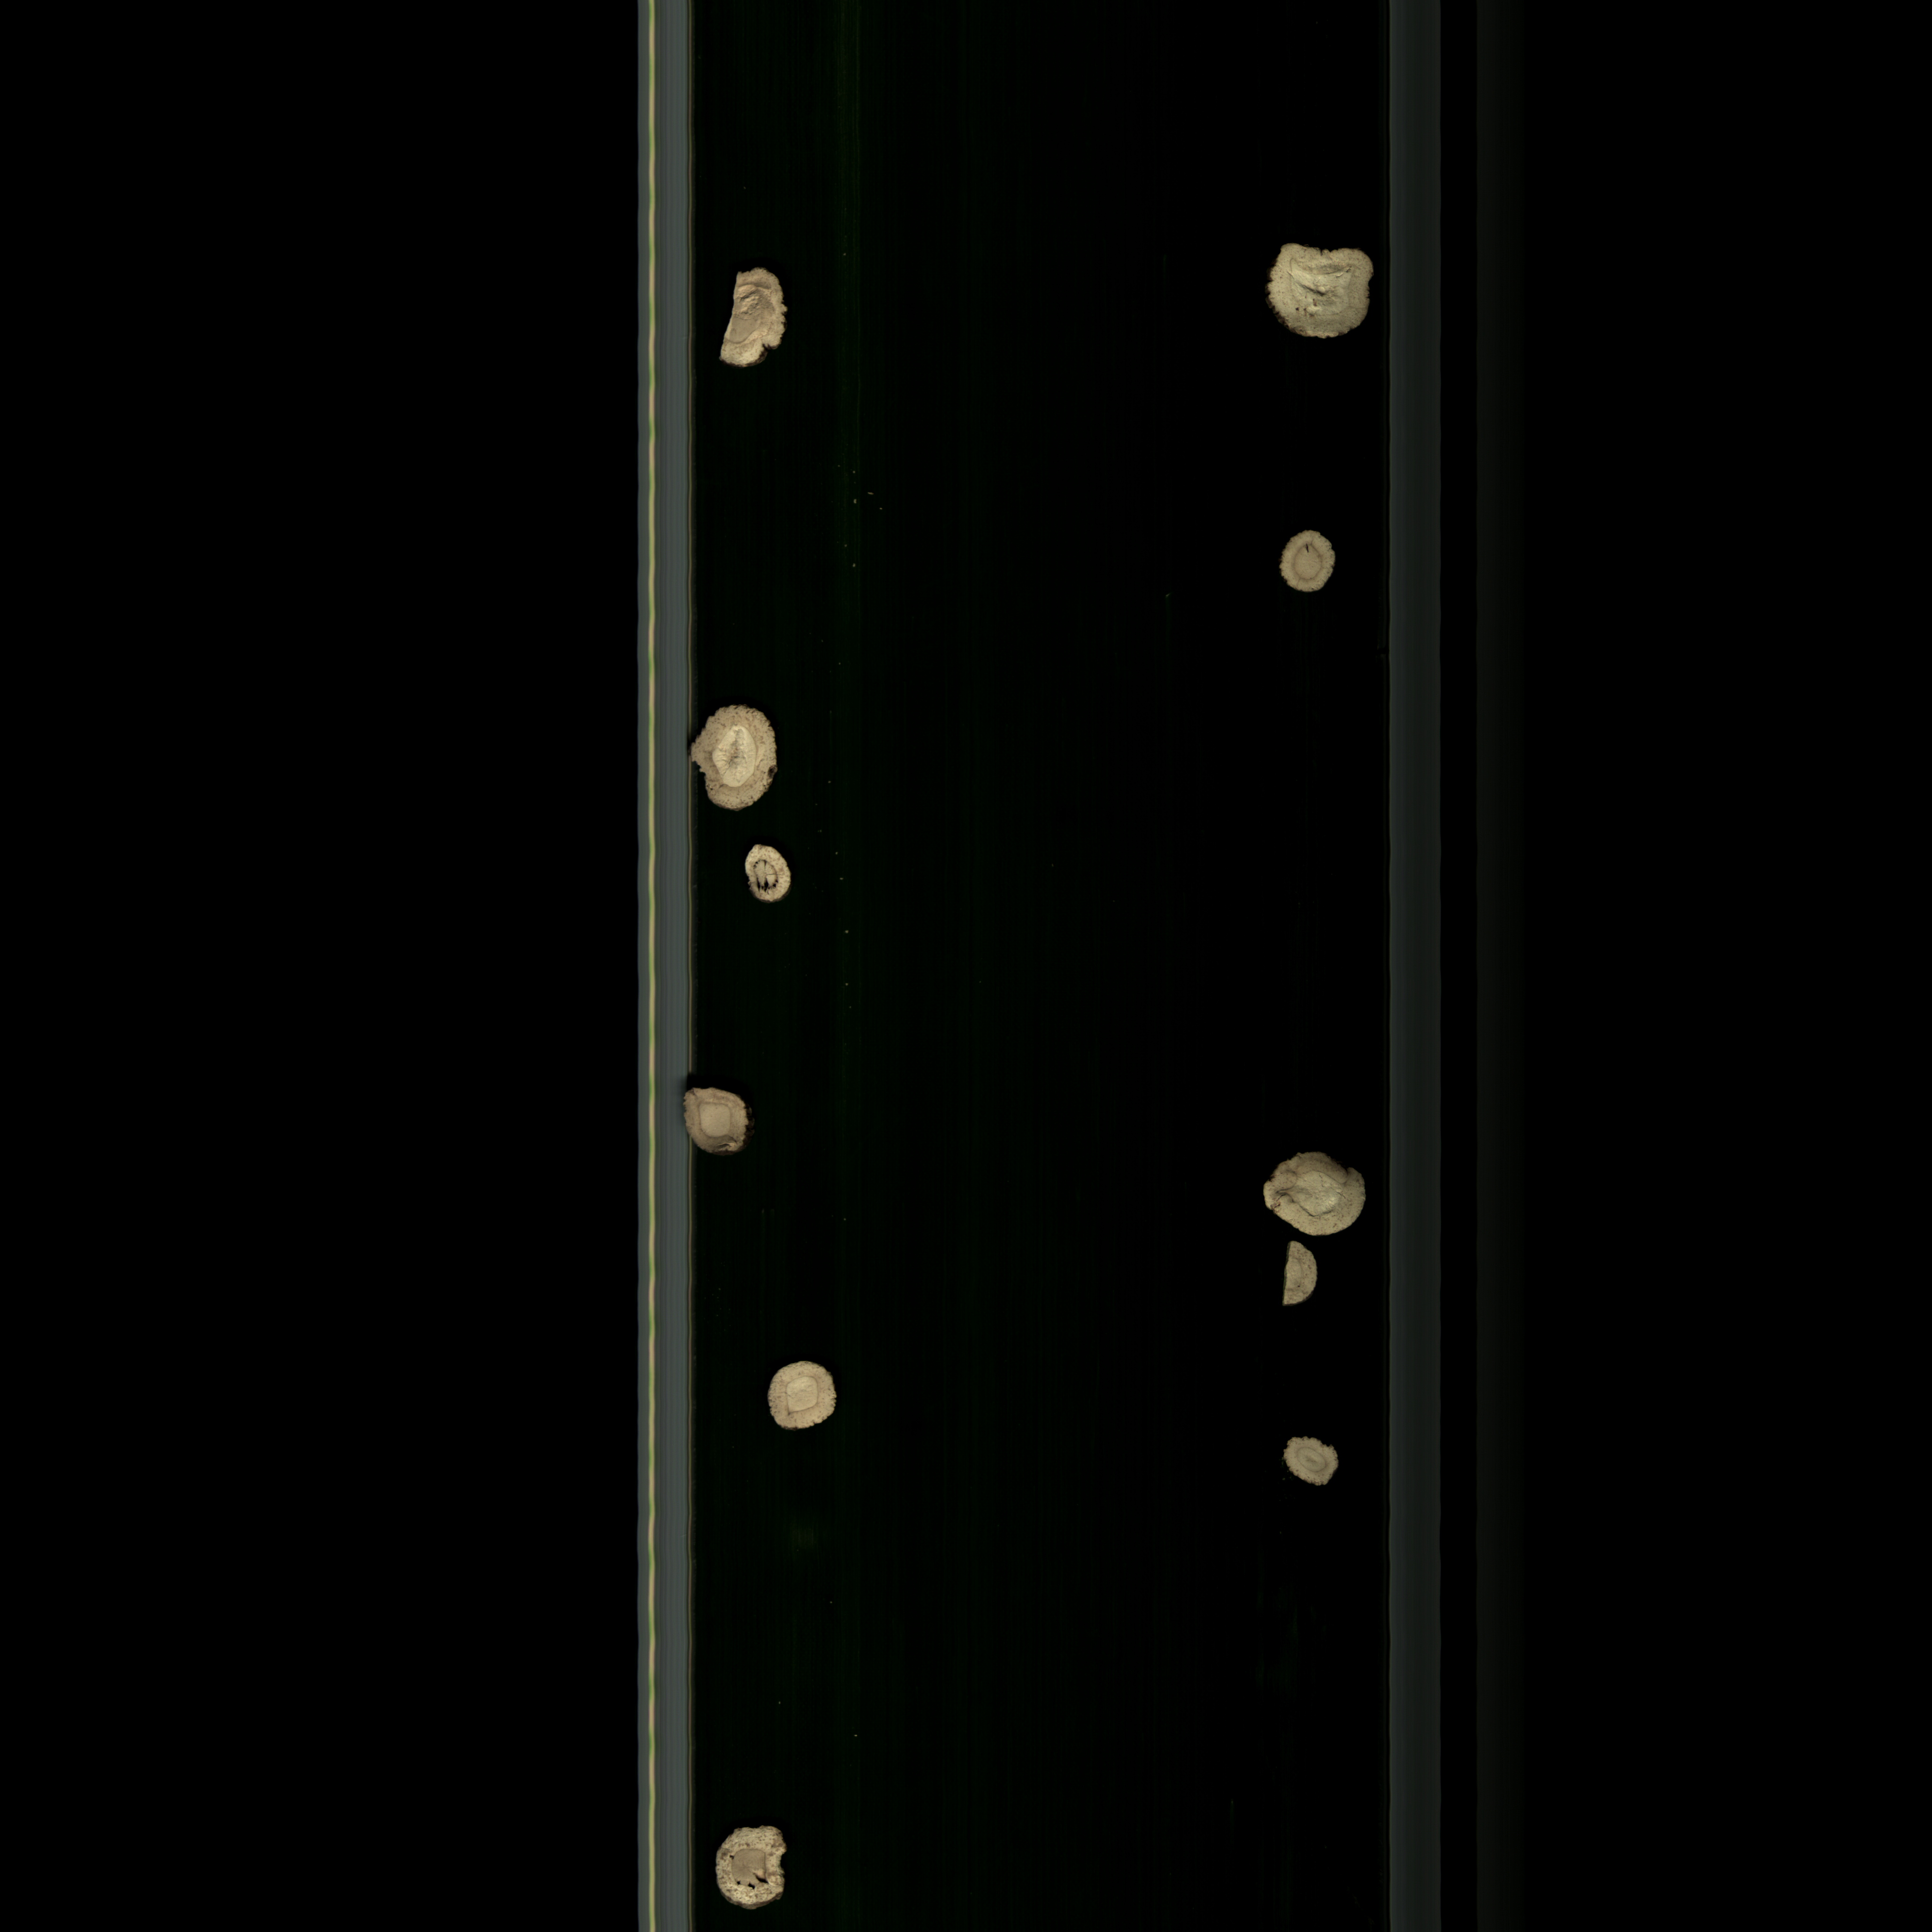debris: (683, 685, 791, 826), (1272, 1231, 1334, 1325)
distortion: (1258, 232, 1391, 350), (1277, 1426, 1355, 1493)
hole: (708, 1812, 796, 1923), (1276, 518, 1346, 612), (736, 833, 809, 913)
moldy: (722, 258, 805, 389), (679, 1083, 768, 1159)
